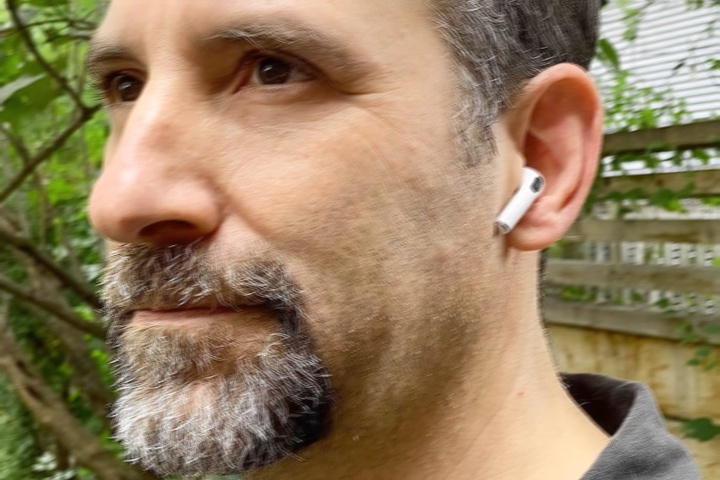earphone: (494, 61, 605, 250)
